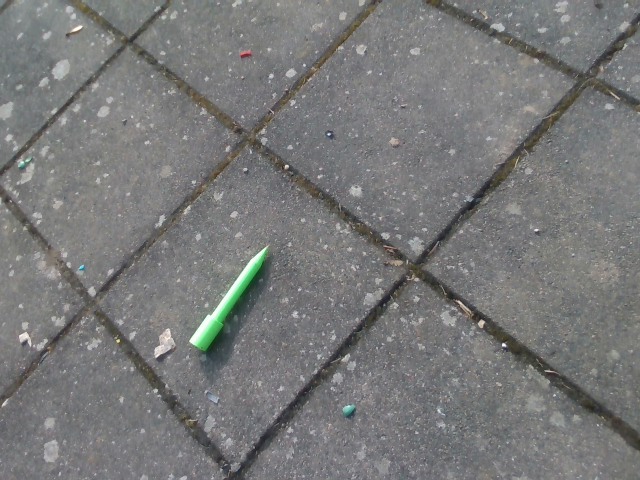Probe: (185, 238, 275, 359)
